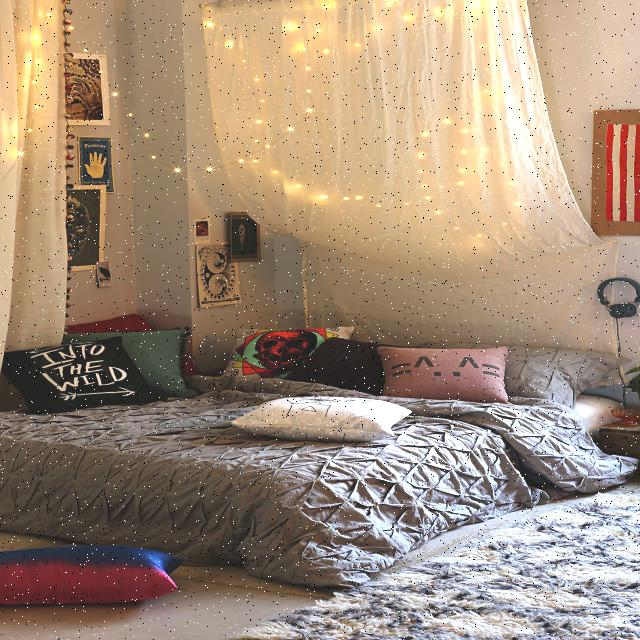bed: (8, 305, 616, 566)
